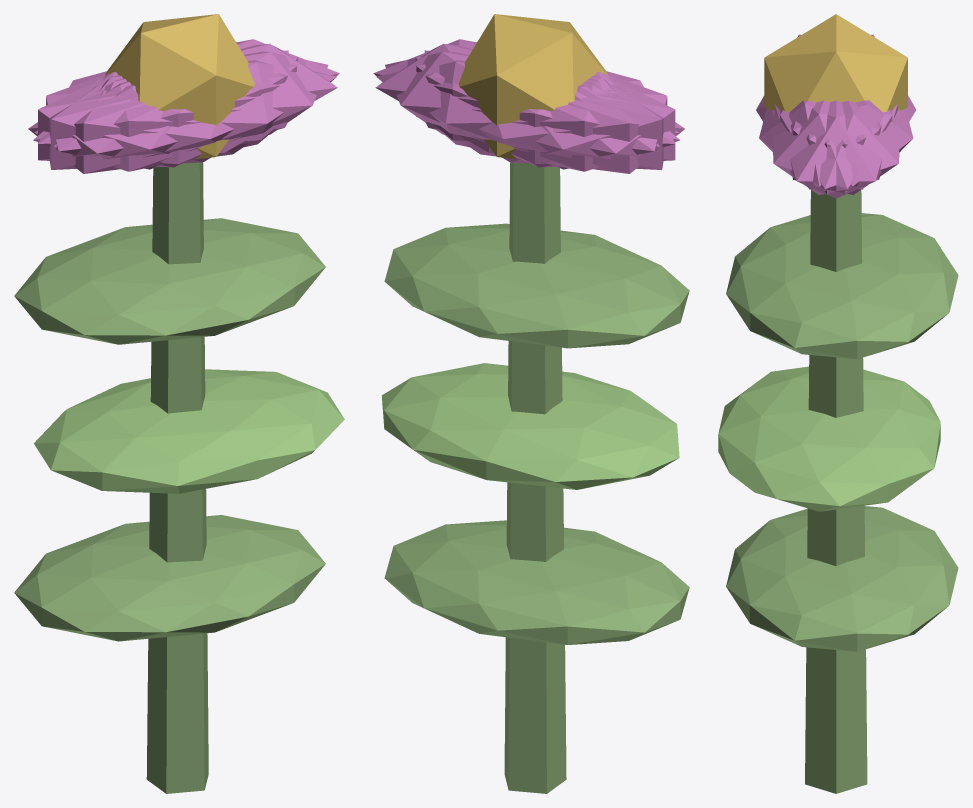
Rendered from pisonia-aculeata.glb.
3 views of the same model, side by side, from view 1: azimuth 30°, elevation 25°; view 2: azimuth 150°, elevation 25°; view 3: azimuth 270°, elevation 25° (orthographic).
Parts seen in each view (by area): view 1: leaf2, leaf1, leaf0, stem, center, petal1, petal6, petal2, petal5, petal7, petal0, petal4 (+2 smaller); view 2: leaf2, leaf0, leaf1, stem, center, petal8, petal3, petal7, petal4, petal2, petal0, petal5 (+2 smaller); view 3: leaf2, leaf1, leaf0, stem, center, petal0, petal4, petal5, petal8, petal1.
Part boxes in pixels (box(x1,y1,x2,y2)): leaf2: box(14, 218, 325, 344); leaf1: box(34, 369, 344, 493); leaf0: box(14, 515, 325, 641); stem: box(146, 162, 208, 793); center: box(105, 14, 254, 159); petal1: box(33, 60, 336, 171); petal6: box(28, 73, 248, 173); petal2: box(49, 50, 288, 169); petal5: box(53, 51, 328, 163); petal7: box(38, 57, 297, 167); petal0: box(104, 43, 337, 153); petal4: box(34, 39, 339, 143); leaf2: box(384, 223, 689, 348); leaf0: box(384, 520, 689, 644); leaf1: box(381, 363, 679, 489); stem: box(504, 162, 566, 793); center: box(458, 14, 608, 159); petal8: box(376, 60, 679, 171); petal3: box(465, 73, 684, 173); petal7: box(424, 50, 663, 169); petal4: box(385, 51, 659, 164); petal2: box(415, 57, 675, 167); petal0: box(375, 43, 608, 153); petal5: box(373, 39, 678, 144); leaf2: box(726, 213, 958, 359); leaf1: box(718, 366, 940, 511); leaf0: box(726, 506, 958, 651); stem: box(805, 190, 867, 793); center: box(764, 14, 907, 112); petal0: box(774, 100, 897, 198); petal4: box(780, 100, 899, 194); petal5: box(772, 100, 892, 194); petal8: box(790, 100, 913, 186); petal1: box(759, 100, 881, 186).
Bounding box in the file's own units: 0.1452 × 0.3514 × 0.1023.
